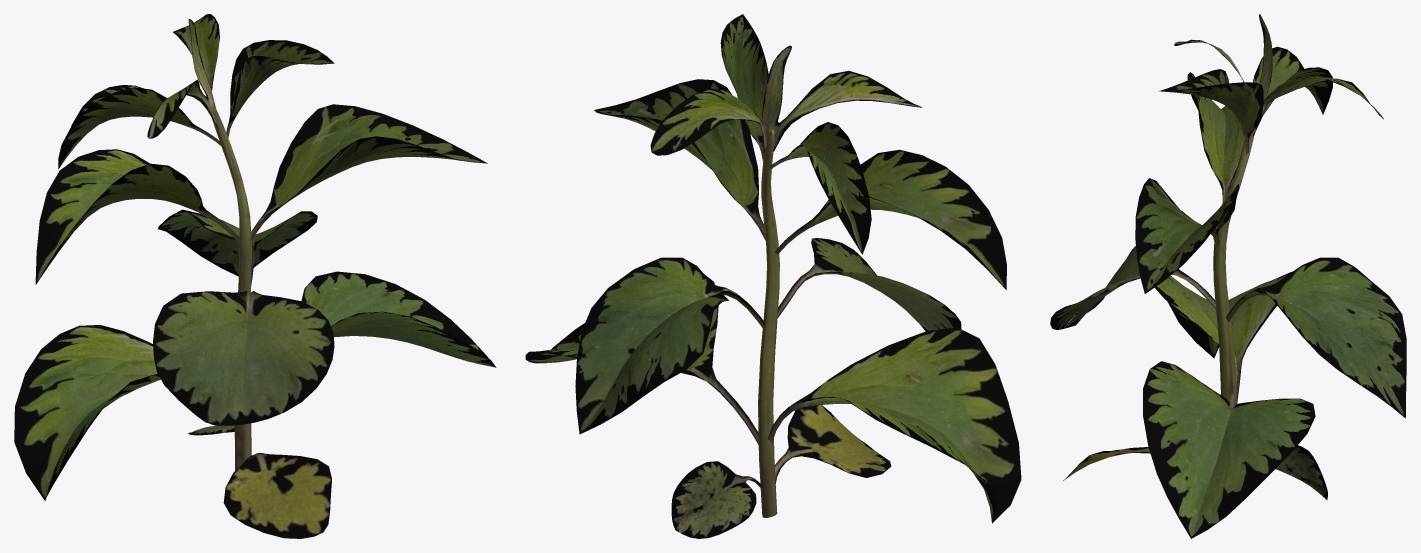
File: nettle_plant_2.gltf
3 views of the same model, side by side, from view 1: azimuth 30°, elevation 25°; view 2: azimuth 150°, elevation 25°; view 3: azimuth 270°, elevation 25° (orthographic). The views are drawn at different scales.
Parts seen in each view (by area): view 1: nettle_plant_small_a_LOD0; view 2: nettle_plant_small_a_LOD0; view 3: nettle_plant_small_a_LOD0.
Part boxes in pixels (x1=…): nettle_plant_small_a_LOD0: x1=14, y1=14, x2=496, y2=538; nettle_plant_small_a_LOD0: x1=525, y1=14, x2=1021, y2=538; nettle_plant_small_a_LOD0: x1=1050, y1=14, x2=1406, y2=538.
Size of the model in its own units: 0.0642 by 0.0626 by 0.0435.
Materials: 1 (1 with a texture image).
